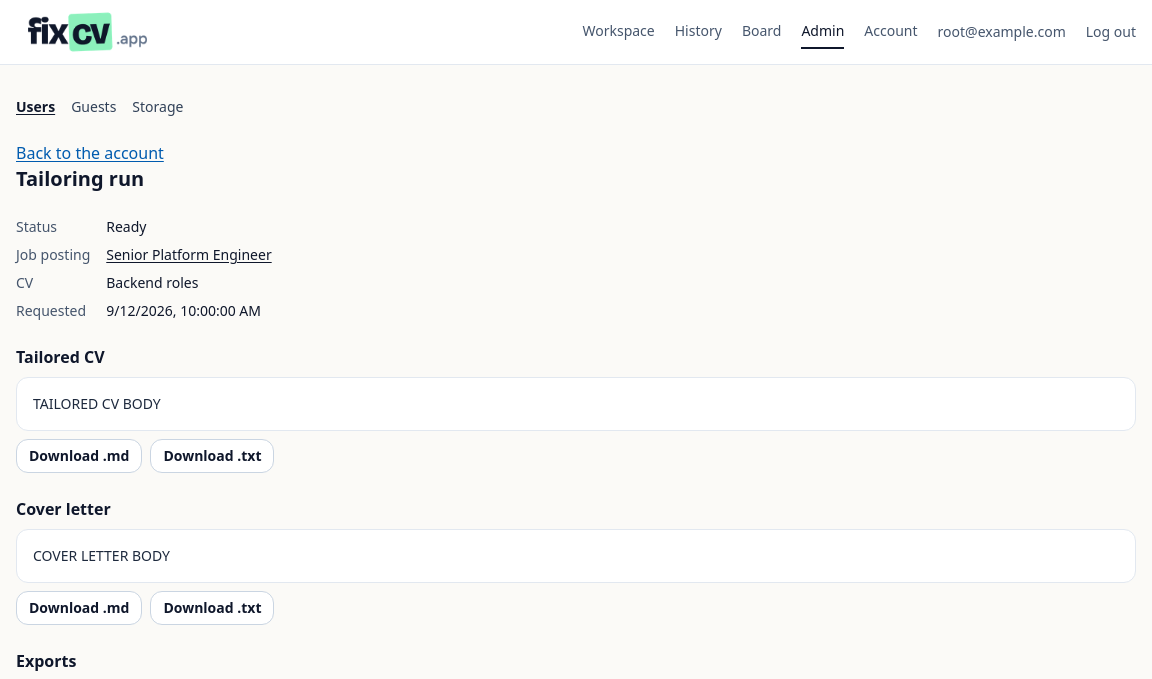
Test: inline downloads — AC-28 › a refused download is an alert in place and the button is usable again
Click the button "Download .md" below "TAILORED CV BODY": click(79, 456) top-left (16, 439), bottom-right (142, 473)
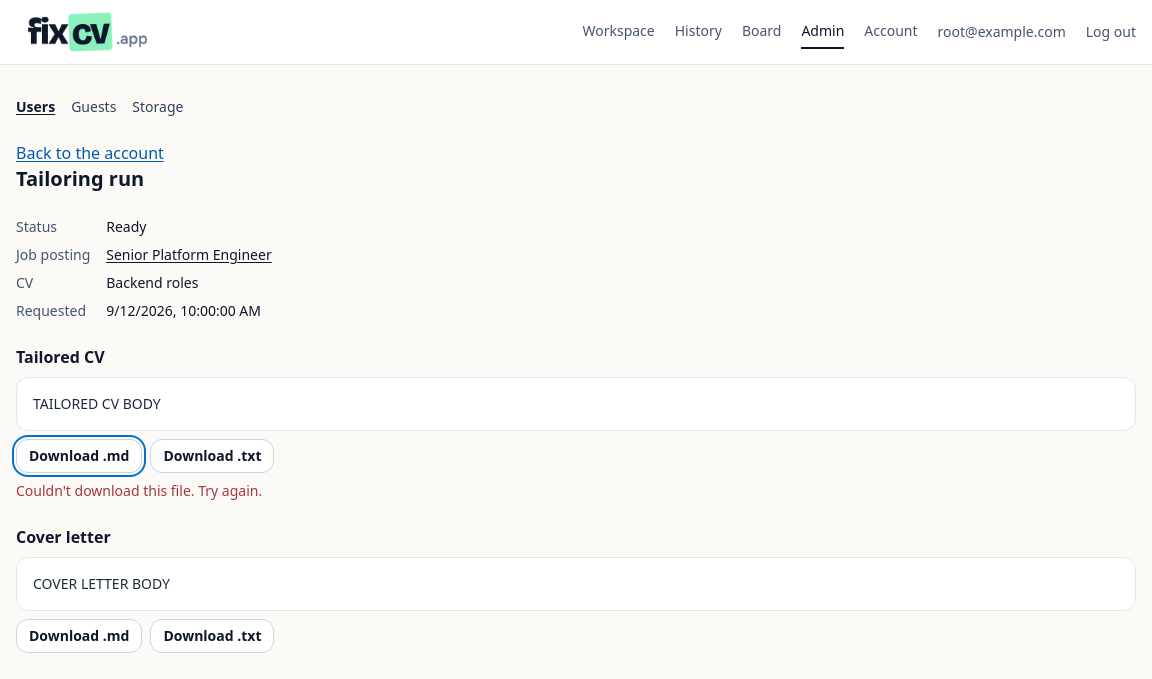
expect the message "Couldn't download this file. Try again." is shown: met, box top-left (16, 481), bottom-right (262, 500)
